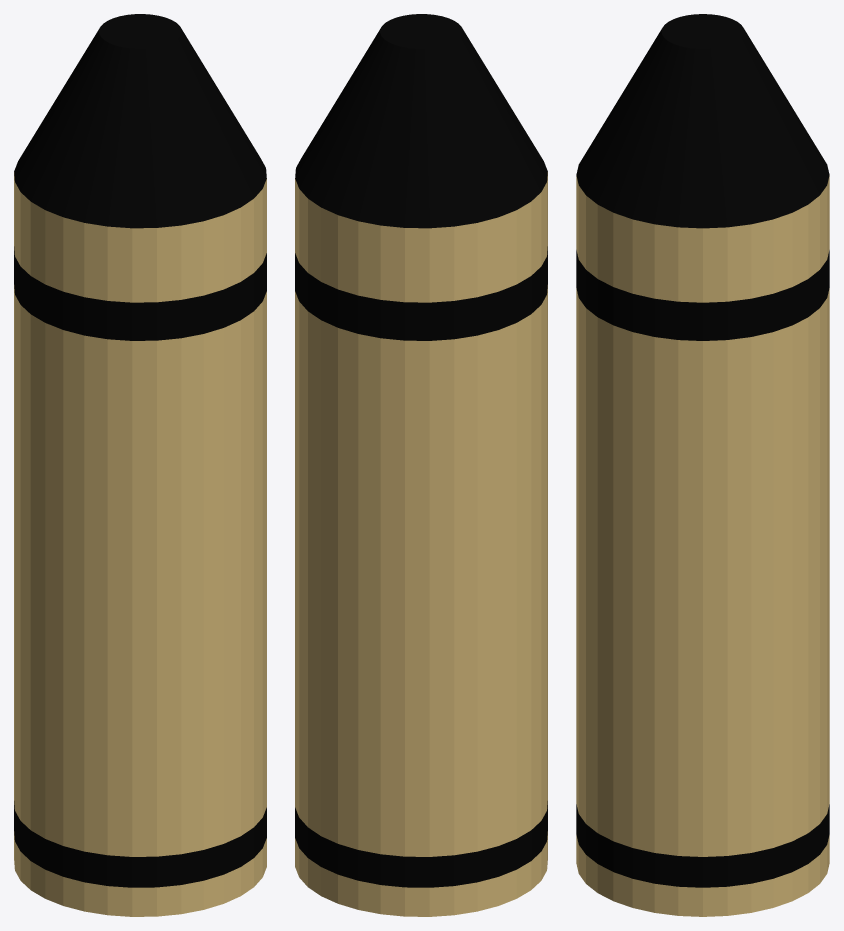
Rendered from crayon black.fbx.
3 renders of one model, left to right at view 1: azimuth 30°, elevation 25°; view 2: azimuth 150°, elevation 25°; view 3: azimuth 270°, elevation 25°, orthographic.
Visible parts, largest first — view 1: Cylinder; view 2: Cylinder; view 3: Cylinder.
Boxes of the visible parts, x1,y1,x2,y2 form: Cylinder: [14, 14, 266, 916]; Cylinder: [295, 14, 547, 916]; Cylinder: [576, 14, 829, 916].
Size of the model in its own units: 20 by 72.49 by 20.
